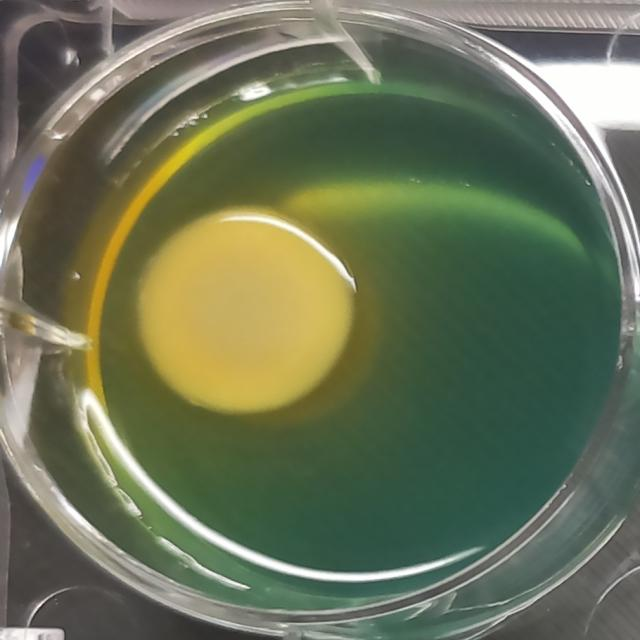vibrio: (120, 185, 368, 442)
